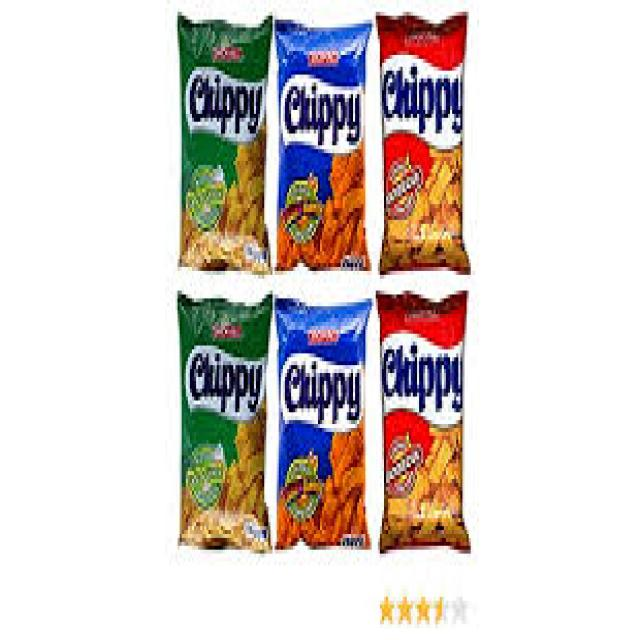junkfood wrapper: (177, 292, 273, 550), (275, 297, 373, 549), (179, 14, 273, 272), (376, 14, 470, 272), (377, 292, 470, 550), (275, 21, 371, 267)
